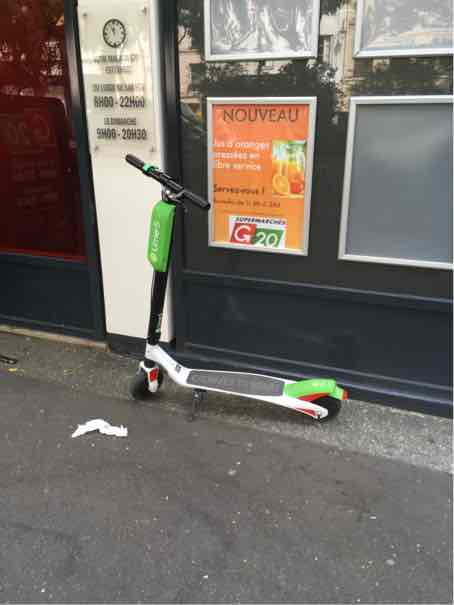scooter: (120, 148, 354, 427)
